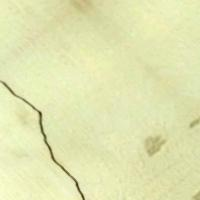crack: (1, 71, 87, 199)
